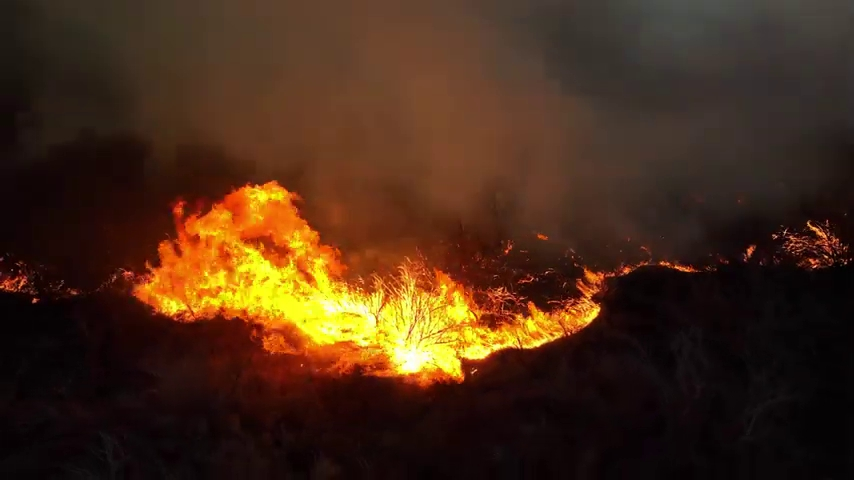forest_fire: (103, 183, 716, 377), (772, 220, 847, 267), (0, 272, 42, 302)
